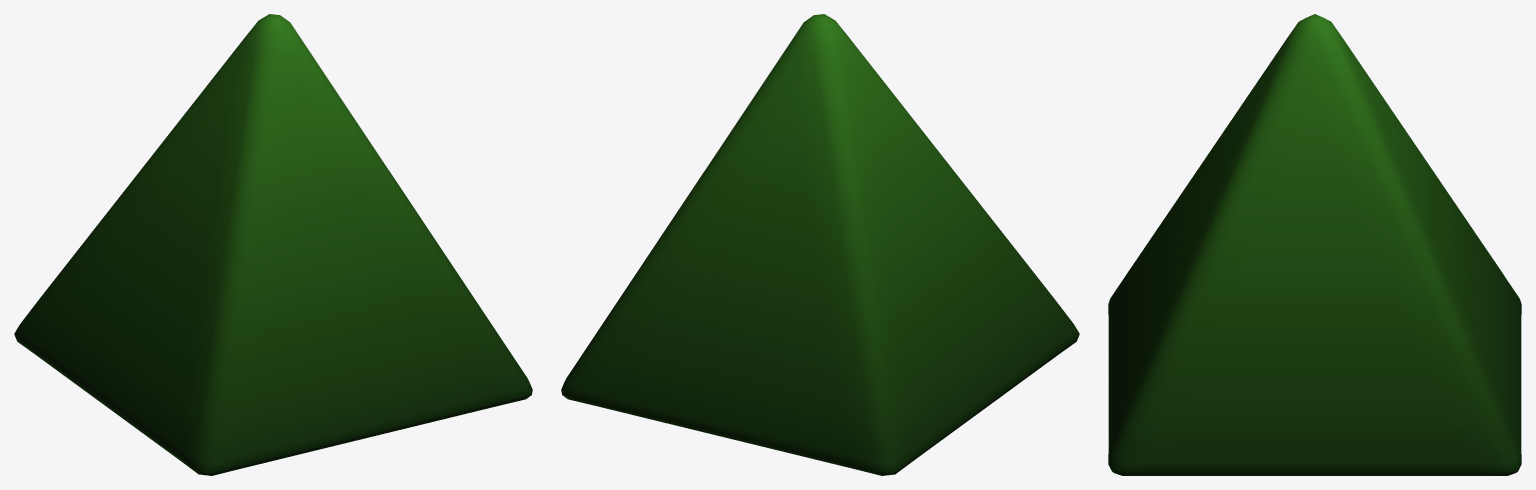
Rendered from Prefab_Foliage_Bush_Triangle.glb.
The picture shows the model from 3 angles, left to right: view 1: azimuth 30°, elevation 25°; view 2: azimuth 150°, elevation 25°; view 3: azimuth 270°, elevation 25°; orthographic projection. The views are drawn at different scales.
Visible parts, largest first — view 1: Bush_Tri; view 2: Bush_Tri; view 3: Bush_Tri.
Boxes of the visible parts, x1,y1,x2,y2 form: Bush_Tri: (14, 14, 532, 475); Bush_Tri: (561, 14, 1079, 475); Bush_Tri: (1108, 14, 1521, 475).
Bounding box in the file's own units: 0.6096 × 0.6096 × 0.6096.
1 material, 1 textured.
